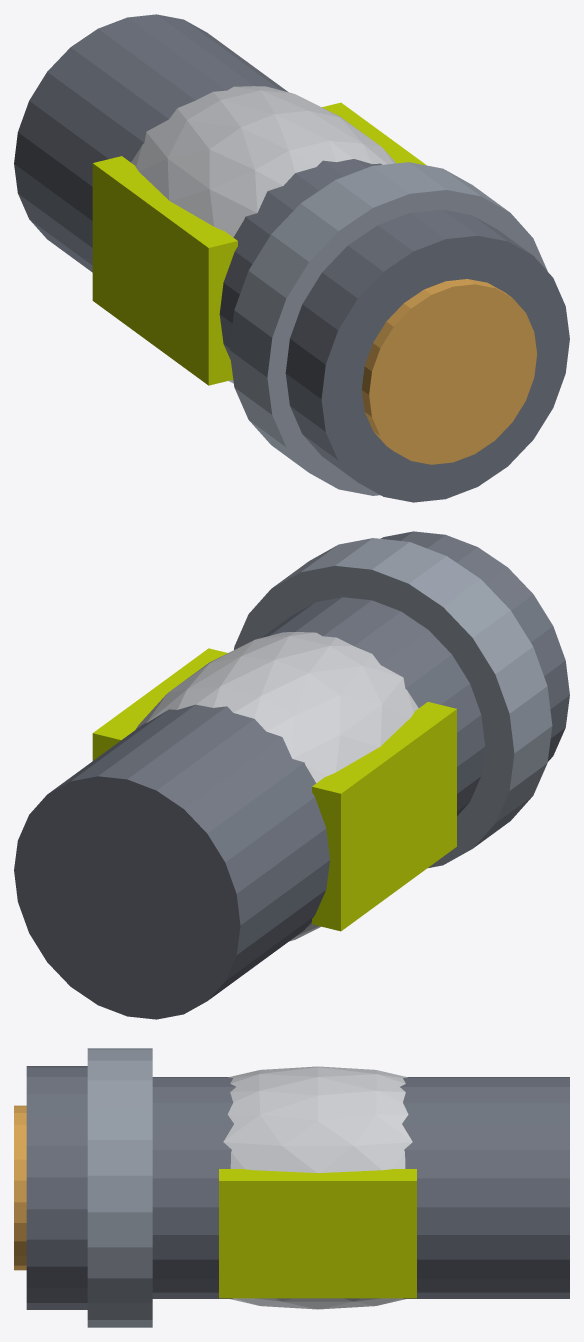
Rendered from propulsor.glb.
3 views of the same model, one above another, from view 1: azimuth 30°, elevation 25°; view 2: azimuth 150°, elevation 25°; view 3: azimuth 270°, elevation 25° (orthographic). The views are drawn at different scales.
Visible parts, largest first — view 1: propulsor_tobera, propulsor_cuerpo, propulsor_collar, propulsor_interior, propulsor_aleta_izq, propulsor_carcasa, propulsor_aleta_der; view 2: propulsor_cuerpo, propulsor_collar, propulsor_aleta_izq, propulsor_carcasa, propulsor_tobera, propulsor_aleta_der; view 3: propulsor_cuerpo, propulsor_aleta_der, propulsor_carcasa, propulsor_collar, propulsor_tobera, propulsor_interior.
Part boxes in pixels (x1,y1,x2,y2): propulsor_tobera: (285,209,569,502); propulsor_cuerpo: (14,14,382,359); propulsor_collar: (229,162,547,495); propulsor_interior: (361,279,536,464); propulsor_aleta_izq: (92,156,237,385); propulsor_carcasa: (131,86,396,383); propulsor_aleta_der: (322,102,426,165); propulsor_cuerpo: (14,597,485,1019); propulsor_collar: (234,538,552,867); propulsor_aleta_izq: (312,702,456,931); propulsor_carcasa: (135,632,418,941); propulsor_tobera: (381,531,569,761); propulsor_aleta_der: (92,648,227,760); propulsor_cuerpo: (152,1077,569,1298); propulsor_aleta_der: (219,1169,416,1298); propulsor_carcasa: (223,1066,412,1309); propulsor_collar: (87,1048,152,1327); propulsor_tobera: (26,1066,87,1309); propulsor_interior: (14,1105,26,1270).
Size of the model in its own units: 0.78 by 0.78 by 1.54.
